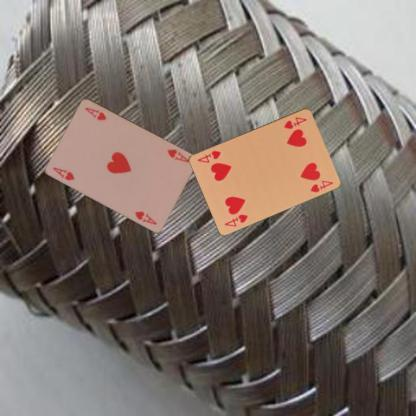4h: (222, 211, 249, 228), (281, 114, 308, 130)
Ah: (164, 146, 190, 164), (50, 165, 75, 182)
